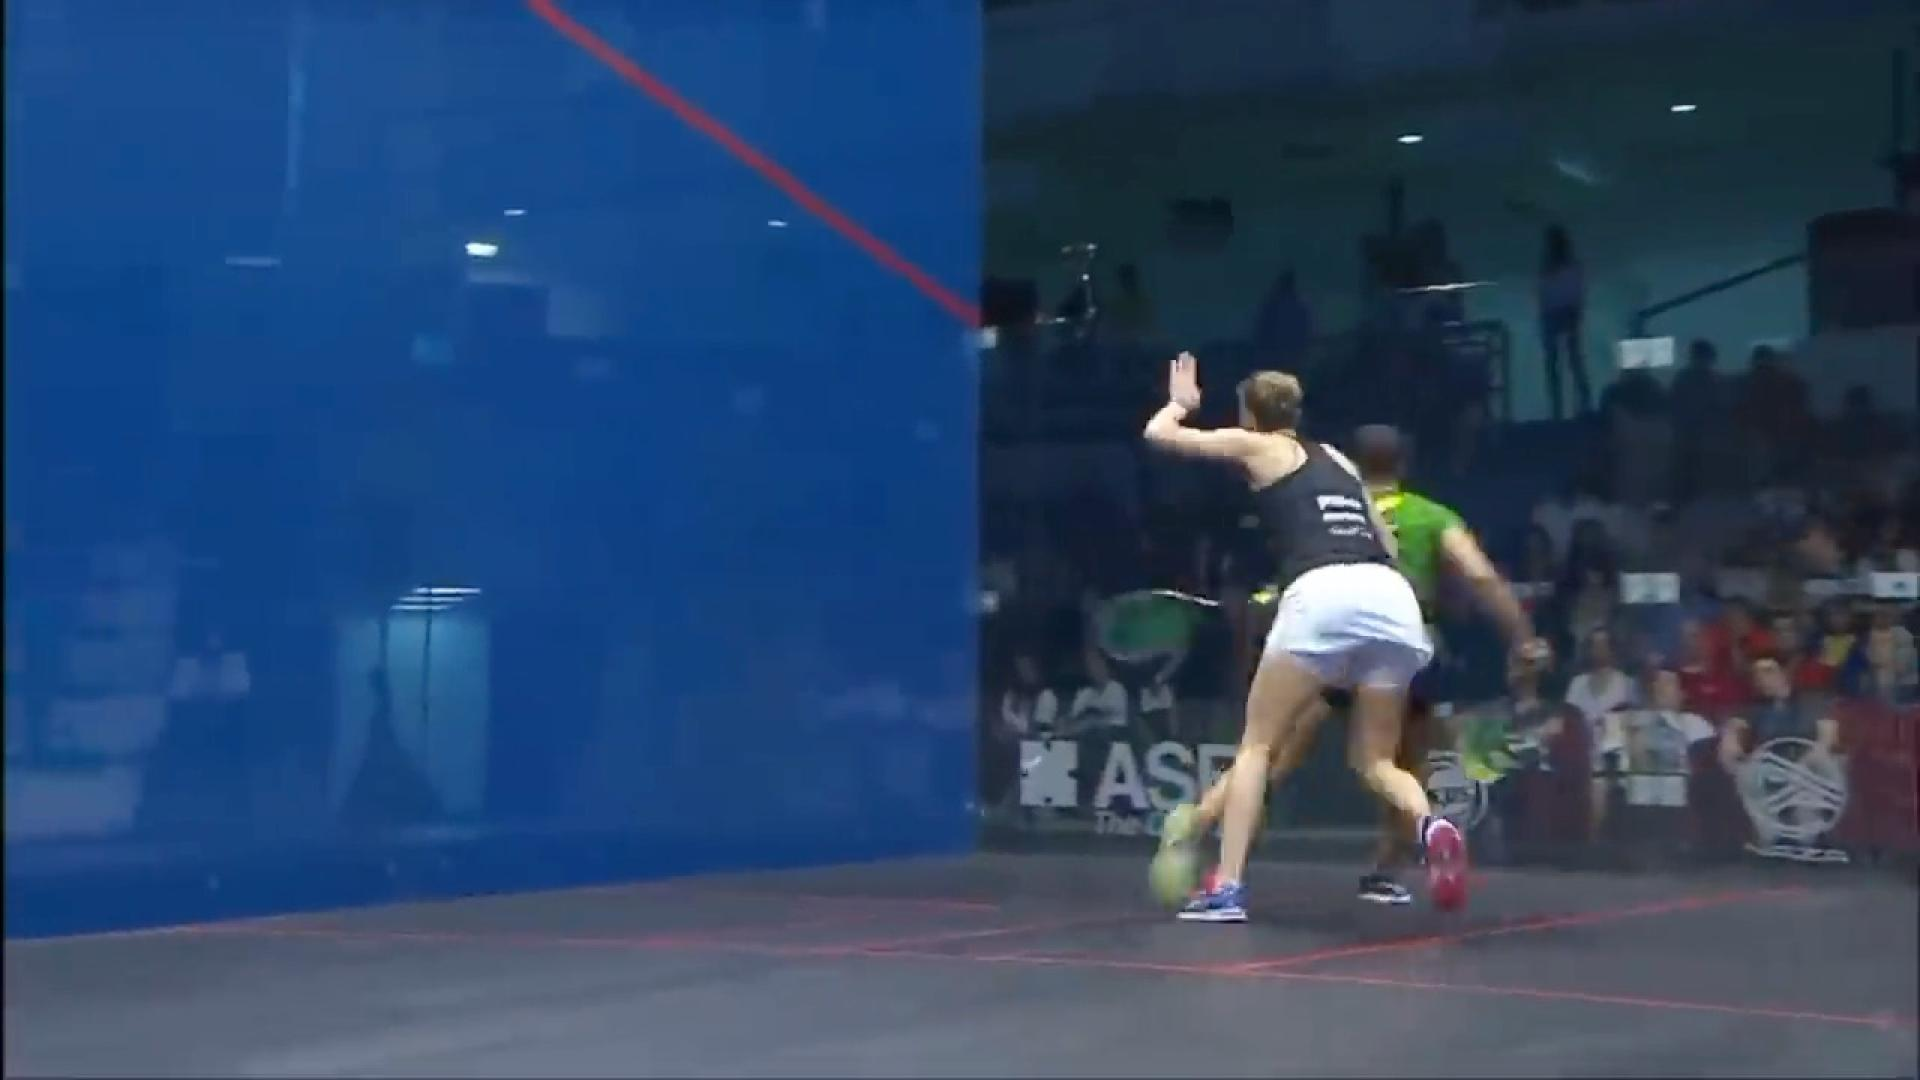Squash-Ball: (1013, 748, 1052, 793)
